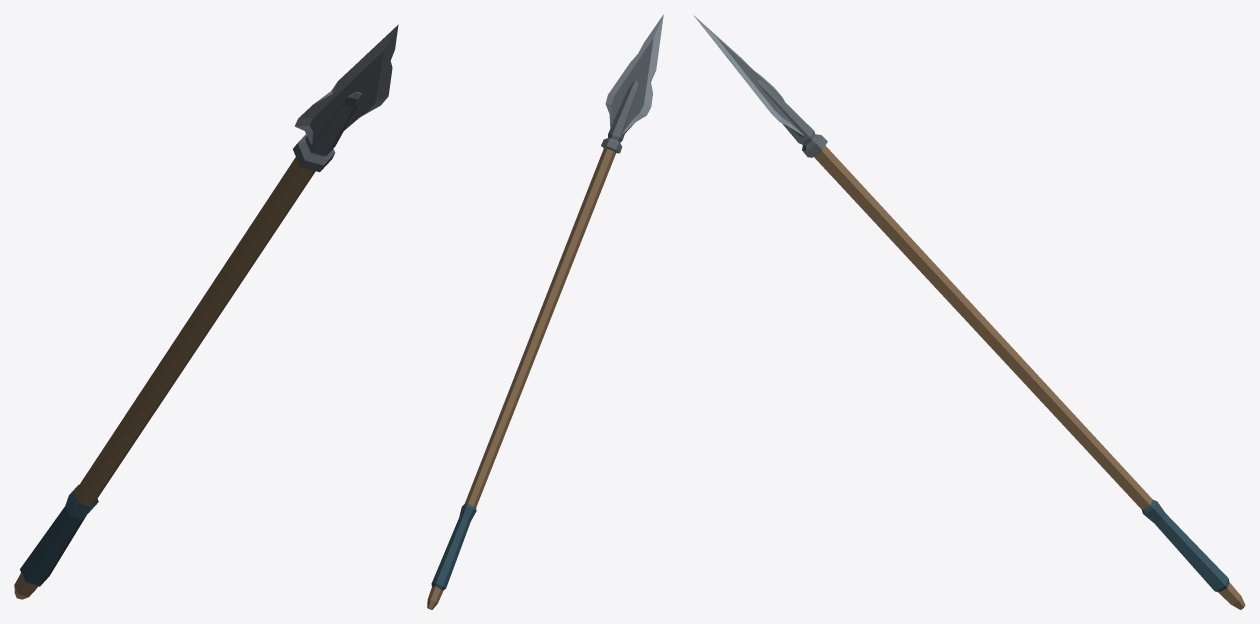
File: fk-spear-07.glb
3 renders of one model, left to right at view 1: azimuth 30°, elevation 25°; view 2: azimuth 150°, elevation 25°; view 3: azimuth 270°, elevation 25°, orthographic. The views are drawn at different scales.
Visible parts, largest first — view 1: fk-spear-07; view 2: fk-spear-07; view 3: fk-spear-07.
Part boxes in pixels (left/top/right/bottom): fk-spear-07: left=14, top=24, right=398, bottom=599; fk-spear-07: left=427, top=14, right=663, bottom=609; fk-spear-07: left=693, top=15, right=1245, bottom=609.
Bounding box in the file's own units: 0.1855 × 1.72 × 1.48.
1 material, 1 textured.
